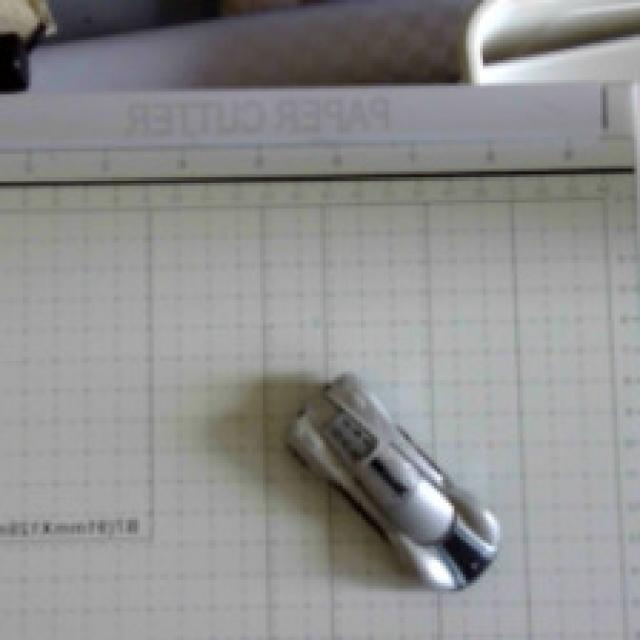Grey Car: (227, 337, 546, 626)
